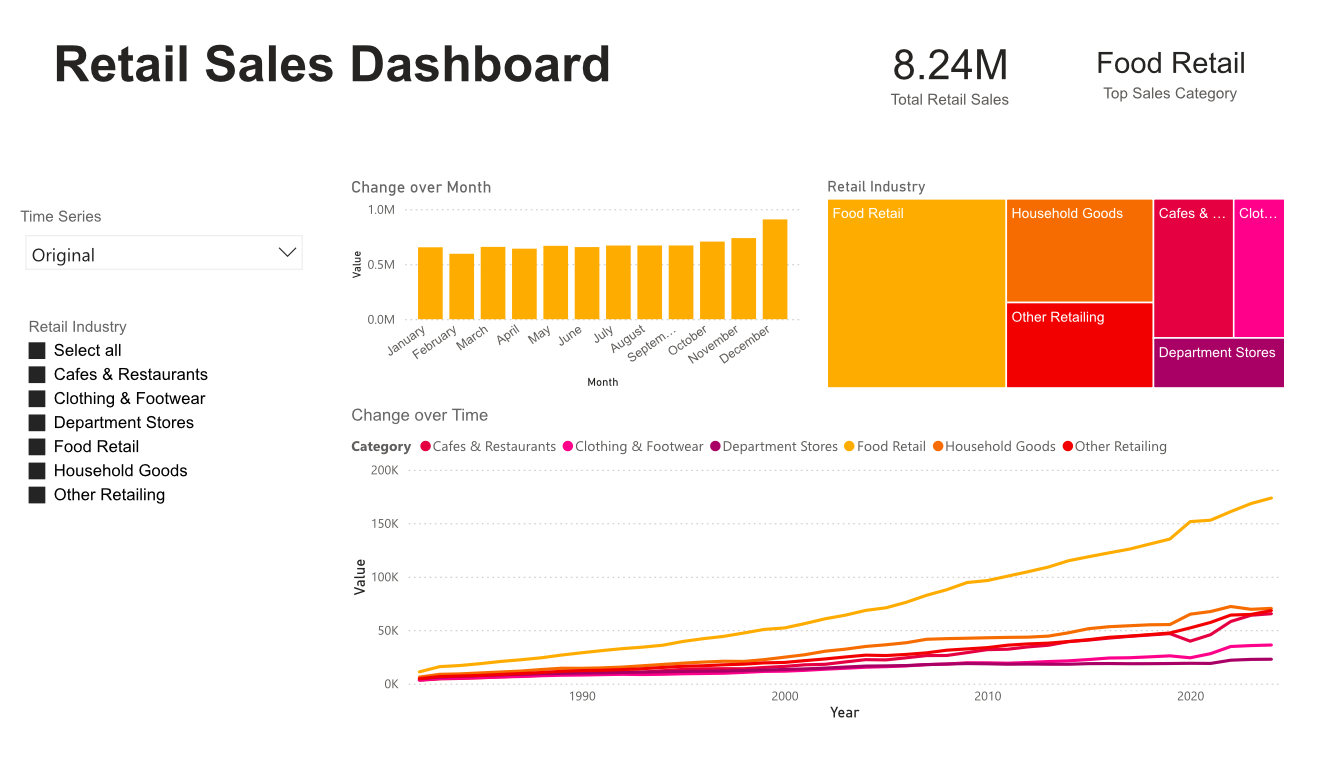

This screenshot's page, from the dashboard's own definition file:
{"tool":"powerbi","page":{"name":"Page 1","canvas":[1280,720],"ordinal":0},"visuals":[{"type":"slicer","title":"Time Series","fields":{"Values":["Data1.Data Type"]},"box":[19.4,204.8,285.3,83.3],"z":0},{"type":"card","fields":{"Values":["Data1.Total Retail Sales"]},"box":[832.5,8.9,161.9,130],"z":1000},{"type":"card","fields":{"Values":["Data1.Top Sales Category"]},"box":[1022.5,8.9,202.7,130],"z":2000},{"type":"lineChart","title":"Change over Time","fields":{"Category":["Data1.Date.Variation.Date Hierarchy.Year","Data1.Date.Variation.Date Hierarchy.Quarter","Data1.Date.Variation.Date Hierarchy.Month","Data1.Date.Variation.Date Hierarchy.Day"],"Series":["Data1.Category"],"Y":["Sum(Data1.Value)"]},"box":[335.5,394.2,902.6,305.8],"z":3000},{"type":"treemap","title":"Retail Industry","fields":{"Group":["Data1.Category"],"Values":["Sum(Data1.Value)"]},"box":[790.4,177.8,447.5,204],"z":4000},{"type":"lineStackedColumnComboChart","title":"Change over Month","fields":{"Category":["Data1.Date.Variation.Date Hierarchy.Month"],"Y":["Sum(Data1.Value)"]},"box":[335.5,178,439.3,204.2],"z":5000},{"type":"slicer","fields":{"Values":["Data1.Category"]},"box":[19.4,305.2,285.3,213.4],"z":6000},{"type":"textbox","box":[51,34.4,589,79],"z":7000}]}

Visuals, with their boxes on the page's 1280x720 design canvas (x1, y1, x2, y2). These are canvas units, not pixel positions in the 1330x776 screenshot, which may show the page scaled, cropped or inside an application window:
"Time Series" slicer: [x1=19, y1=205, x2=305, y2=288]
card - Data1.Total Retail Sales: [x1=832, y1=9, x2=994, y2=139]
card - Data1.Top Sales Category: [x1=1022, y1=9, x2=1225, y2=139]
"Change over Time" lineChart: [x1=336, y1=394, x2=1238, y2=700]
"Retail Industry" treemap: [x1=790, y1=178, x2=1238, y2=382]
"Change over Month" lineStackedColumnComboChart: [x1=336, y1=178, x2=775, y2=382]
slicer - Data1.Category: [x1=19, y1=305, x2=305, y2=519]
textbox: [x1=51, y1=34, x2=640, y2=113]
